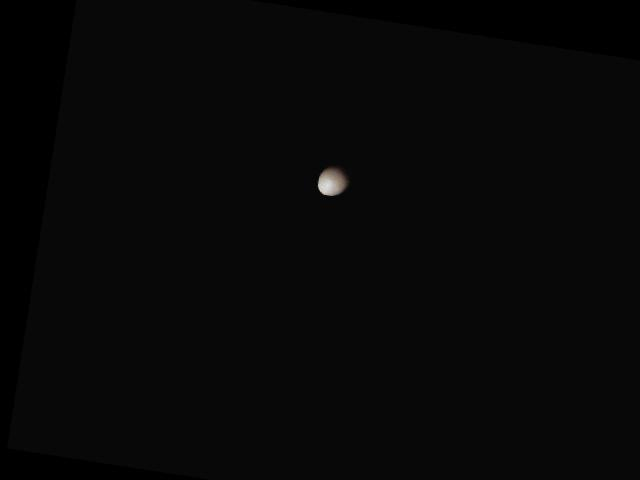egg: (316, 162, 354, 198)
